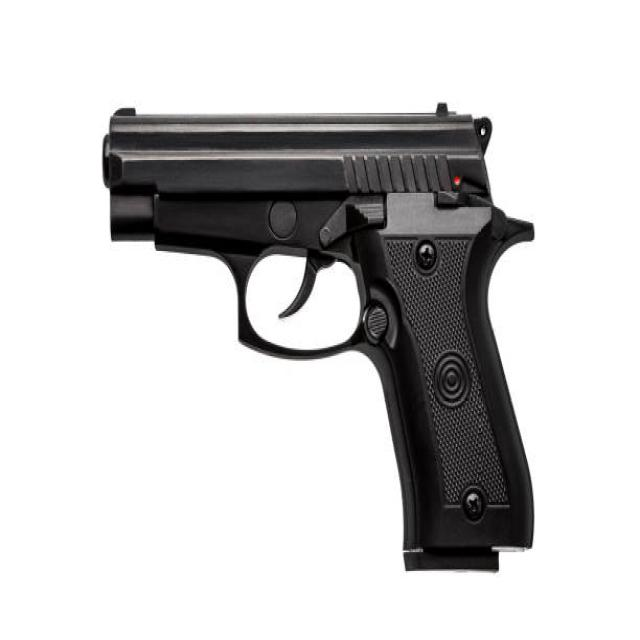pistol: (104, 94, 549, 583)
